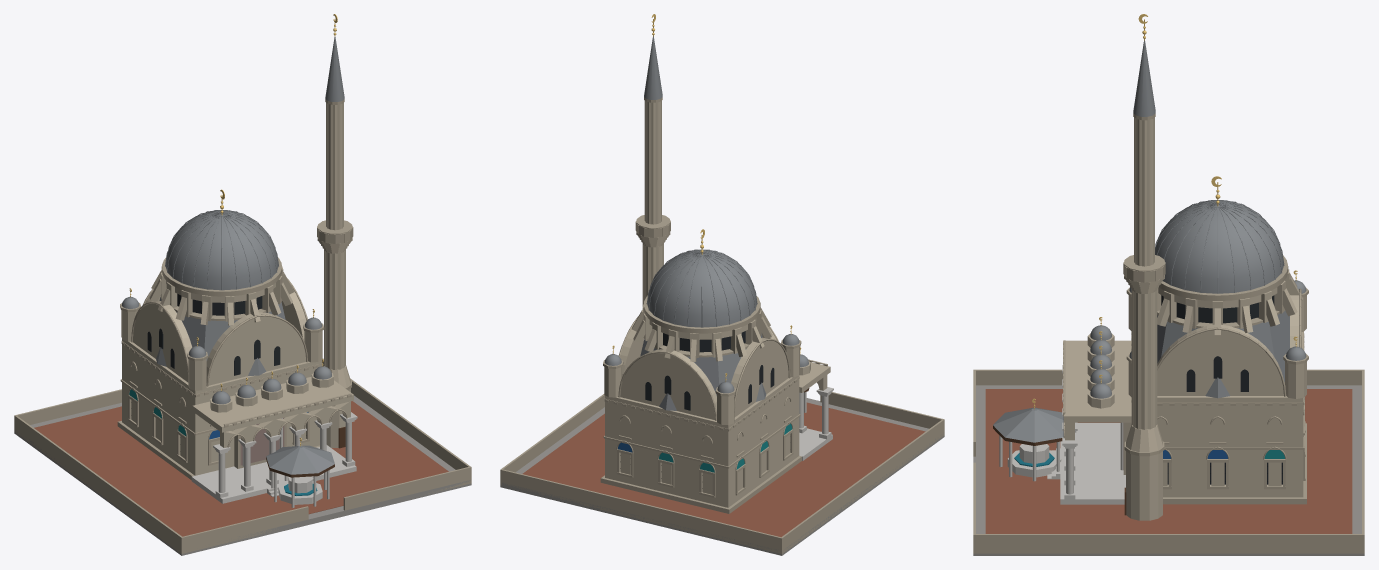
Rendered from bina_18.glb.
3 views of the same model, side by side, from view 1: azimuth 30°, elevation 25°; view 2: azimuth 150°, elevation 25°; view 3: azimuth 270°, elevation 25° (orthographic). The views are drawn at different scales.
Parts seen in each view (by area): view 1: P18_Mahalle_Camii_L1.001; view 2: P18_Mahalle_Camii_L1.001; view 3: P18_Mahalle_Camii_L1.001.
Boxes of the visible parts, left/top/right/bottom form: P18_Mahalle_Camii_L1.001: left=14, top=14, right=471, bottom=555; P18_Mahalle_Camii_L1.001: left=500, top=14, right=944, bottom=555; P18_Mahalle_Camii_L1.001: left=973, top=14, right=1364, bottom=555.
Size of the model in its own units: 32 by 47.15 by 32.
